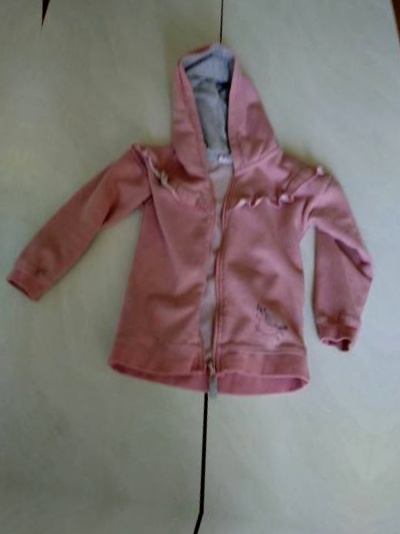Hoodie: (3, 0, 400, 419), (0, 0, 33, 355), (377, 52, 400, 479)
